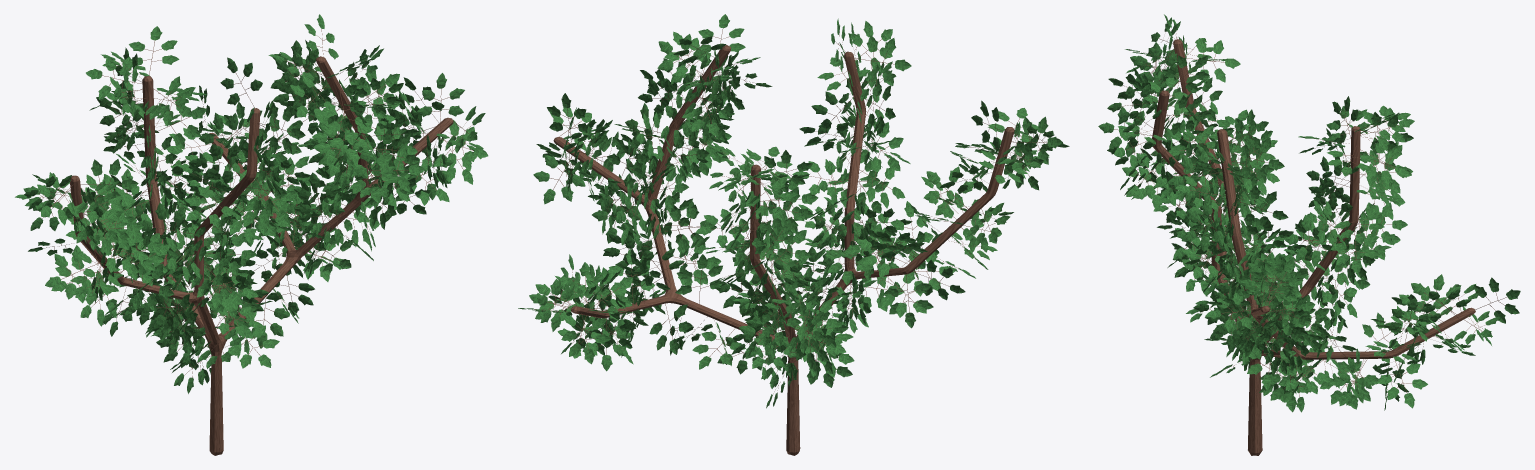
The model's file is Busch01.fbx.
The picture shows the model from 3 angles, left to right: view 1: azimuth 30°, elevation 25°; view 2: azimuth 150°, elevation 25°; view 3: azimuth 270°, elevation 25°; orthographic projection. The views are drawn at different scales.
Visible parts, largest first — view 1: Cube.001, Cube.001|Leaves|Dupli|233.0.0.0.0.0.0.0.0.0, Cube.001|Leaves|Dupli|177.0.0.0.0.0.0.0.0.0, Cube.001|Leaves|Dupli|159.0.0.0.0.0.0.0.0.0, Cube.001|Leaves|Dupli|224.0.0.0.0.0.0.0.0.0, Cube.001|Leaves|Dupli|21.0.0.0.0.0.0.0.0.0, Cube.001|Leaves|Dupli|314.0.0.0.0.0.0.0.0.0, Cube.001|Leaves|Dupli|43.0.0.0.0.0.0.0.0.0, Cube.001|Leaves|Dupli|100.0.0.0.0.0.0.0.0.0, Cube.001|Leaves|Dupli|97.0.0.0.0.0.0.0.0.0, Cube.001|Leaves|Dupli|259.0.0.0.0.0.0.0.0.0, Cube.001|Leaves|Dupli|304.0.0.0.0.0.0.0.0.0 (+40 smaller); view 2: Cube.001, Cube.001|Leaves|Dupli|22.0.0.0.0.0.0.0.0.0, Cube.001|Leaves|Dupli|149.0.0.0.0.0.0.0.0.0, Cube.001|Leaves|Dupli|280.0.0.0.0.0.0.0.0.0, Cube.001|Leaves|Dupli|256.0.0.0.0.0.0.0.0.0, Cube.001|Leaves|Dupli|306.0.0.0.0.0.0.0.0.0, Cube.001|Leaves|Dupli|222.0.0.0.0.0.0.0.0.0, Cube.001|Leaves|Dupli|324.0.0.0.0.0.0.0.0.0, Cube.001|Leaves|Dupli|199.0.0.0.0.0.0.0.0.0, Cube.001|Leaves|Dupli|275.0.0.0.0.0.0.0.0.0, Cube.001|Leaves|Dupli|283.0.0.0.0.0.0.0.0.0, Cube.001|Leaves|Dupli|87.0.0.0.0.0.0.0.0.0 (+11 smaller); view 3: Cube.001, Cube.001|Leaves|Dupli|209.0.0.0.0.0.0.0.0.0, Cube.001|Leaves|Dupli|263.0.0.0.0.0.0.0.0.0, Cube.001|Leaves|Dupli|185.0.0.0.0.0.0.0.0.0, Cube.001|Leaves|Dupli|158.0.0.0.0.0.0.0.0.0, Cube.001|Leaves|Dupli|116.0.0.0.0.0.0.0.0.0, Cube.001|Leaves|Dupli|200.0.0.0.0.0.0.0.0.0, Cube.001|Leaves|Dupli|10.0.0.0.0.0.0.0.0.0, Cube.001|Leaves|Dupli|13.0.0.0.0.0.0.0.0.0, Cube.001|Leaves|Dupli|123.0.0.0.0.0.0.0.0.0, Cube.001|Leaves|Dupli|251.0.0.0.0.0.0.0.0.0, Cube.001|Leaves|Dupli|191.0.0.0.0.0.0.0.0.0 (+40 smaller).
Boxes of the visible parts, <box> form: Cube.001: <box>70,56,453,455</box>; Cube.001|Leaves|Dupli|233.0.0.0.0.0.0.0.0.0: <box>45,245,99,299</box>; Cube.001|Leaves|Dupli|177.0.0.0.0.0.0.0.0.0: <box>344,154,398,203</box>; Cube.001|Leaves|Dupli|159.0.0.0.0.0.0.0.0.0: <box>417,73,464,128</box>; Cube.001|Leaves|Dupli|224.0.0.0.0.0.0.0.0.0: <box>123,261,174,311</box>; Cube.001|Leaves|Dupli|21.0.0.0.0.0.0.0.0.0: <box>258,101,305,154</box>; Cube.001|Leaves|Dupli|314.0.0.0.0.0.0.0.0.0: <box>227,325,279,368</box>; Cube.001|Leaves|Dupli|43.0.0.0.0.0.0.0.0.0: <box>245,174,297,225</box>; Cube.001|Leaves|Dupli|100.0.0.0.0.0.0.0.0.0: <box>126,26,179,75</box>; Cube.001|Leaves|Dupli|97.0.0.0.0.0.0.0.0.0: <box>149,76,195,126</box>; Cube.001|Leaves|Dupli|259.0.0.0.0.0.0.0.0.0: <box>79,159,138,207</box>; Cube.001|Leaves|Dupli|304.0.0.0.0.0.0.0.0.0: <box>294,172,344,225</box>; Cube.001: <box>553,45,1014,455</box>; Cube.001|Leaves|Dupli|22.0.0.0.0.0.0.0.0.0: <box>854,35,911,88</box>; Cube.001|Leaves|Dupli|149.0.0.0.0.0.0.0.0.0: <box>533,155,585,204</box>; Cube.001|Leaves|Dupli|280.0.0.0.0.0.0.0.0.0: <box>561,313,610,364</box>; Cube.001|Leaves|Dupli|256.0.0.0.0.0.0.0.0.0: <box>1011,116,1062,168</box>; Cube.001|Leaves|Dupli|306.0.0.0.0.0.0.0.0.0: <box>665,201,715,255</box>; Cube.001|Leaves|Dupli|222.0.0.0.0.0.0.0.0.0: <box>883,274,933,328</box>; Cube.001|Leaves|Dupli|324.0.0.0.0.0.0.0.0.0: <box>675,254,725,303</box>; Cube.001|Leaves|Dupli|199.0.0.0.0.0.0.0.0.0: <box>657,34,707,84</box>; Cube.001|Leaves|Dupli|275.0.0.0.0.0.0.0.0.0: <box>586,267,632,320</box>; Cube.001|Leaves|Dupli|283.0.0.0.0.0.0.0.0.0: <box>649,303,692,354</box>; Cube.001|Leaves|Dupli|87.0.0.0.0.0.0.0.0.0: <box>760,187,813,234</box>; Cube.001: <box>1152,39,1475,455</box>; Cube.001|Leaves|Dupli|209.0.0.0.0.0.0.0.0.0: <box>1230,132,1284,183</box>; Cube.001|Leaves|Dupli|263.0.0.0.0.0.0.0.0.0: <box>1377,359,1427,408</box>; Cube.001|Leaves|Dupli|185.0.0.0.0.0.0.0.0.0: <box>1181,200,1227,251</box>; Cube.001|Leaves|Dupli|158.0.0.0.0.0.0.0.0.0: <box>1254,258,1303,306</box>; Cube.001|Leaves|Dupli|116.0.0.0.0.0.0.0.0.0: <box>1284,215,1328,267</box>; Cube.001|Leaves|Dupli|200.0.0.0.0.0.0.0.0.0: <box>1167,150,1221,201</box>; Cube.001|Leaves|Dupli|10.0.0.0.0.0.0.0.0.0: <box>1474,277,1520,323</box>; Cube.001|Leaves|Dupli|13.0.0.0.0.0.0.0.0.0: <box>1162,55,1209,91</box>; Cube.001|Leaves|Dupli|123.0.0.0.0.0.0.0.0.0: <box>1330,228,1380,273</box>; Cube.001|Leaves|Dupli|251.0.0.0.0.0.0.0.0.0: <box>1186,38,1240,83</box>; Cube.001|Leaves|Dupli|191.0.0.0.0.0.0.0.0.0: <box>1238,185,1288,226</box>.
Bounding box in the file's own units: 154 × 124 × 120.
